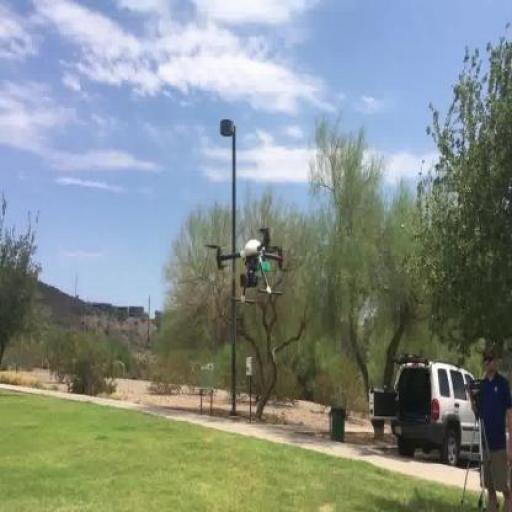drone: (204, 221, 287, 309)
